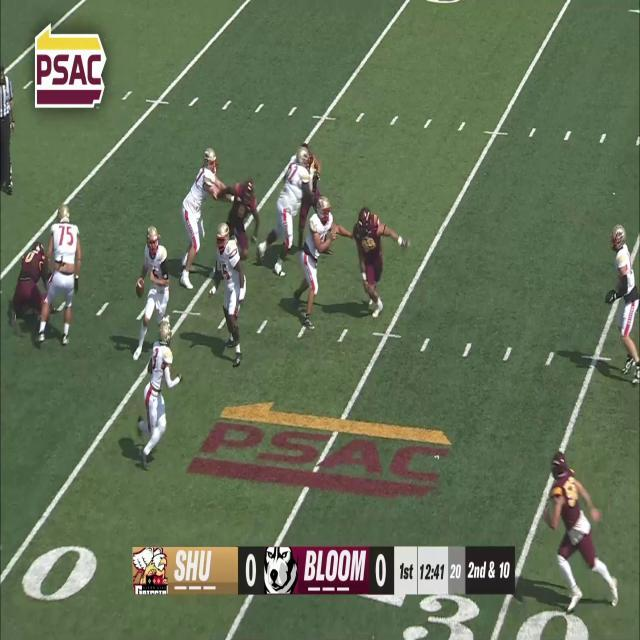football: (134, 278, 146, 298)
